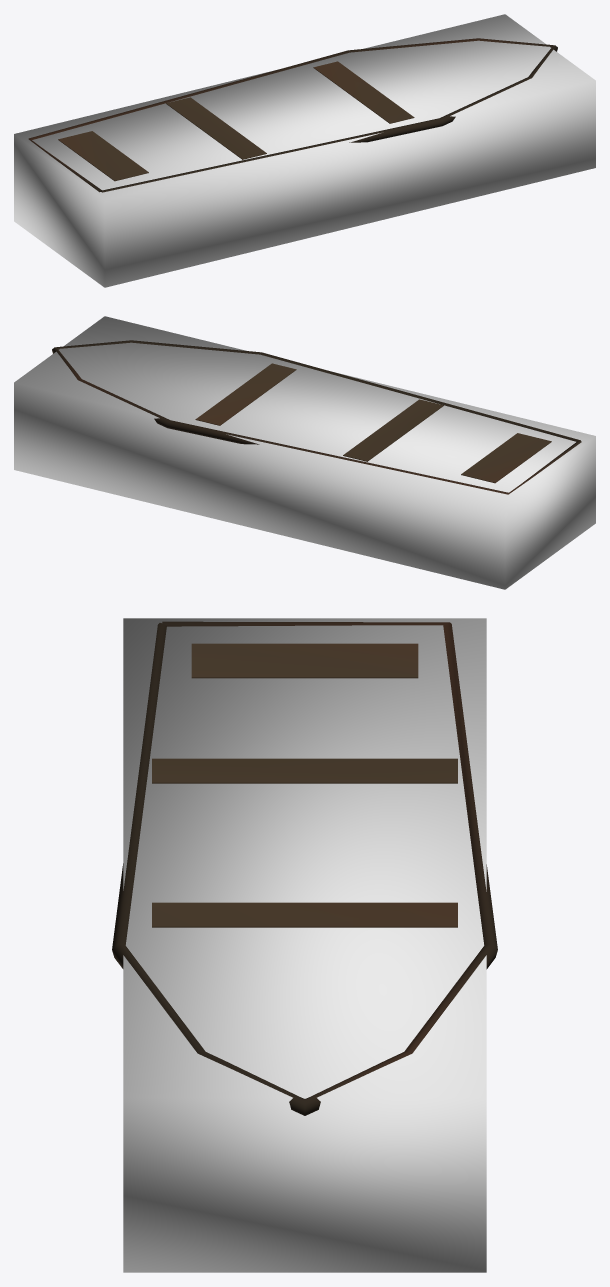
The model's file is barca.glb.
3 renders of one model, top to bottom at view 1: azimuth 30°, elevation 25°; view 2: azimuth 150°, elevation 25°; view 3: azimuth 270°, elevation 25°, orthographic. The views are drawn at different scales.
Visible parts, largest first — view 1: barca-colcaja, barca; view 2: barca-colcaja, barca; view 3: barca-colcaja, barca.
Part boxes in pixels (x1,y1,x2,y2): barca-colcaja: (14, 14, 595, 287); barca: (28, 38, 557, 192); barca-colcaja: (14, 316, 595, 589); barca: (52, 340, 581, 494); barca-colcaja: (123, 618, 486, 1272); barca: (112, 621, 497, 1115).
Size of the model in its own units: 5.08 by 0.8587 by 1.7.
